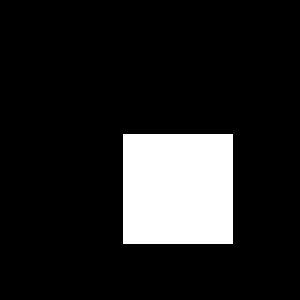circle: (123, 134, 233, 244)
